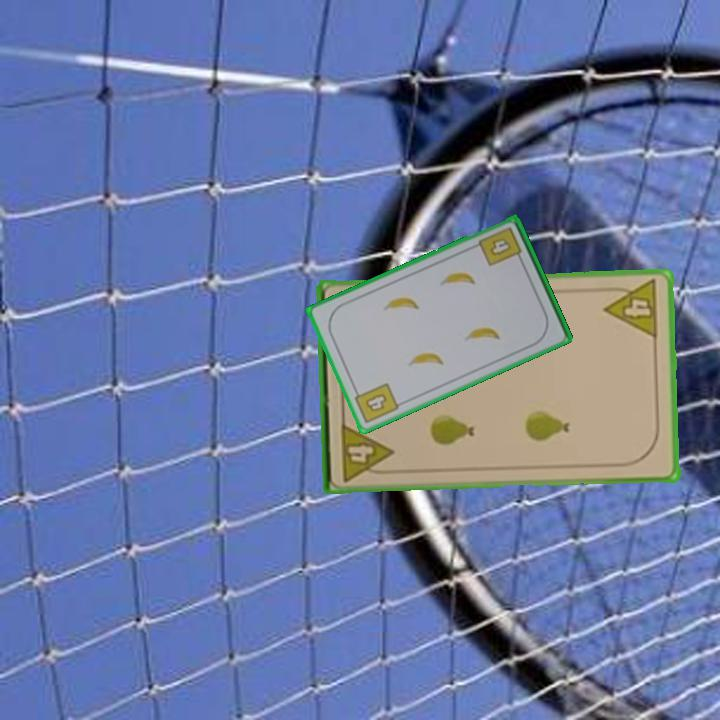4b: (350, 379, 402, 427), (475, 223, 525, 269)
4p: (600, 276, 662, 341), (337, 419, 396, 484)
